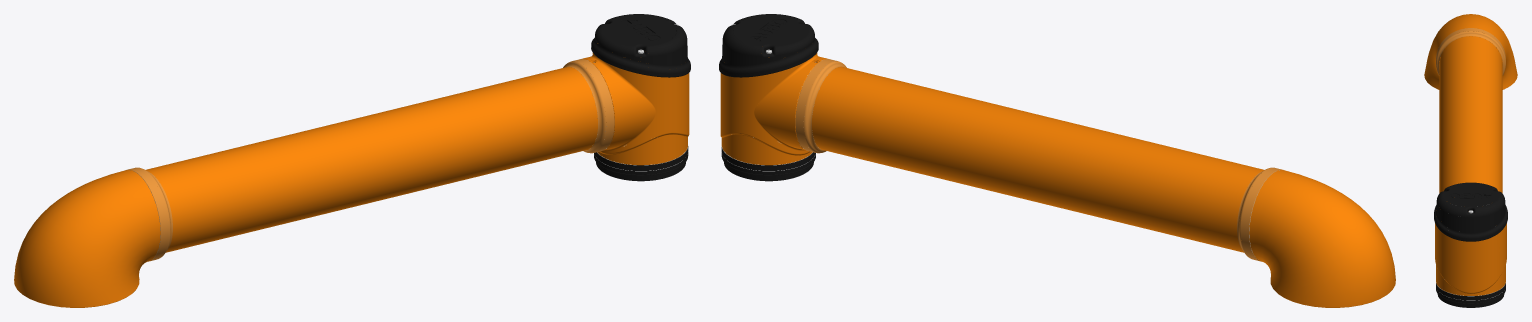
Rendered from foreArm_Link.DAE.
3 views of the same model, side by side, from view 1: azimuth 30°, elevation 25°; view 2: azimuth 150°, elevation 25°; view 3: azimuth 270°, elevation 25° (orthographic). The views are drawn at different scales.
Visible parts, largest first — view 1: NONE-DC_Shell_ncl1_8, NONE-DC_Shell_ncl1_7, NONE-DC_Shell_ncl1_11, NONE-DC_Shell_ncl1_12, NONE-DC_Shell_ncl1_3, NONE-DC_Shell_ncl1_4, NONE-DC_Shell_ncl1_13, NONE-DC_Shell_ncl1_15; view 2: NONE-DC_Shell_ncl1_8, NONE-DC_Shell_ncl1_7, NONE-DC_Shell_ncl1_11, NONE-DC_Shell_ncl1_12, NONE-DC_Shell_ncl1_3, NONE-DC_Shell_ncl1_4, NONE-DC_Shell_ncl1_13, NONE-DC_Shell_ncl1_15; view 3: NONE-DC_Shell_ncl1_8, NONE-DC_Shell_ncl1_11, NONE-DC_Shell_ncl1_12, NONE-DC_Shell_ncl1_7, NONE-DC_Shell_ncl1_4, NONE-DC_Shell_ncl1_15, NONE-DC_Shell_ncl1_13, NONE-DC_Shell_ncl1_20.
Boxes of the visible parts, bbox=[...] form: NONE-DC_Shell_ncl1_8: bbox=[146, 66, 597, 252]; NONE-DC_Shell_ncl1_7: bbox=[14, 170, 160, 307]; NONE-DC_Shell_ncl1_11: bbox=[582, 43, 689, 165]; NONE-DC_Shell_ncl1_12: bbox=[591, 14, 690, 77]; NONE-DC_Shell_ncl1_3: bbox=[563, 59, 614, 153]; NONE-DC_Shell_ncl1_4: bbox=[127, 167, 172, 261]; NONE-DC_Shell_ncl1_13: bbox=[594, 155, 688, 181]; NONE-DC_Shell_ncl1_15: bbox=[594, 146, 688, 170]; NONE-DC_Shell_ncl1_8: bbox=[812, 66, 1263, 252]; NONE-DC_Shell_ncl1_7: bbox=[1249, 170, 1395, 307]; NONE-DC_Shell_ncl1_11: bbox=[720, 52, 827, 165]; NONE-DC_Shell_ncl1_12: bbox=[719, 14, 818, 77]; NONE-DC_Shell_ncl1_3: bbox=[795, 59, 846, 153]; NONE-DC_Shell_ncl1_4: bbox=[1237, 167, 1282, 261]; NONE-DC_Shell_ncl1_13: bbox=[721, 156, 815, 181]; NONE-DC_Shell_ncl1_15: bbox=[721, 147, 815, 170]; NONE-DC_Shell_ncl1_8: bbox=[1439, 36, 1502, 193]; NONE-DC_Shell_ncl1_11: bbox=[1435, 223, 1506, 295]; NONE-DC_Shell_ncl1_12: bbox=[1434, 182, 1507, 241]; NONE-DC_Shell_ncl1_7: bbox=[1424, 14, 1517, 89]; NONE-DC_Shell_ncl1_4: bbox=[1436, 28, 1505, 75]; NONE-DC_Shell_ncl1_15: bbox=[1436, 283, 1505, 300]; NONE-DC_Shell_ncl1_13: bbox=[1436, 290, 1505, 307]; NONE-DC_Shell_ncl1_20: bbox=[1436, 287, 1505, 303].
Size of the model in its own units: 704 by 116 by 135.
